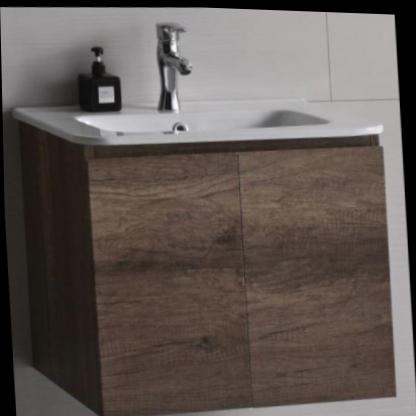Cabinet: (17, 106, 397, 416)
